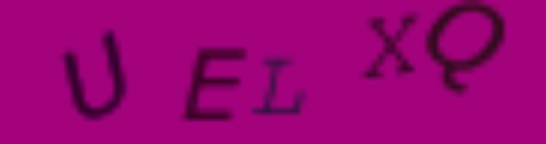E: (183, 43, 248, 123)
L: (254, 56, 308, 118)
Q: (424, 1, 508, 96)
U: (64, 27, 128, 122)
X: (364, 11, 417, 79)
